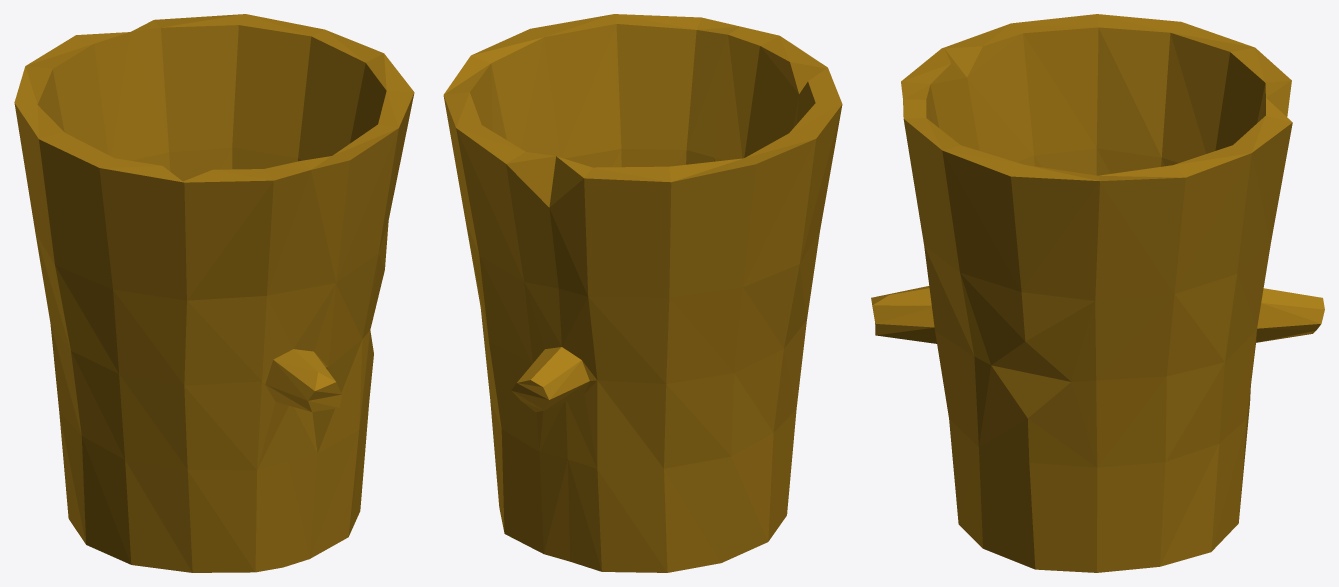
The model's file is SFHW_Herbalism_Tools_003.fbx.
3 renders of one model, left to right at view 1: azimuth 30°, elevation 25°; view 2: azimuth 150°, elevation 25°; view 3: azimuth 270°, elevation 25°, orthographic.
Visible parts, largest first — view 1: SFHW_Herbalism_Tools_003; view 2: SFHW_Herbalism_Tools_003; view 3: SFHW_Herbalism_Tools_003.
Boxes of the visible parts, bbox=[...] form: SFHW_Herbalism_Tools_003: bbox=[14, 14, 414, 572]; SFHW_Herbalism_Tools_003: bbox=[443, 14, 842, 572]; SFHW_Herbalism_Tools_003: bbox=[871, 14, 1324, 572].
Size of the model in its own units: 13.56 by 15.78 by 15.54.
